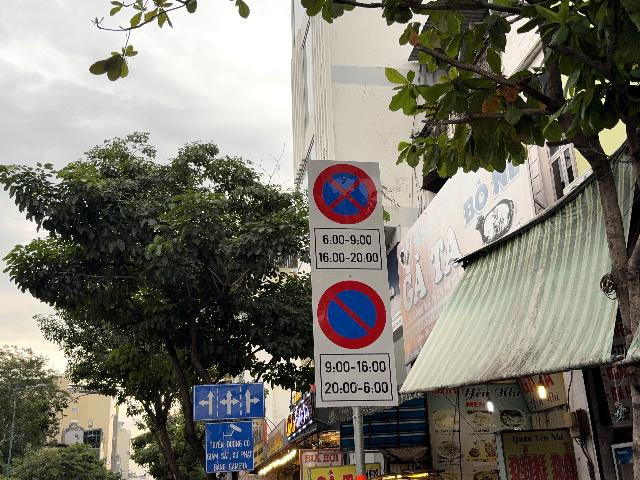cam-do-xe: (318, 279, 387, 349)
cam-dung-va-do-xe: (314, 163, 377, 224)
